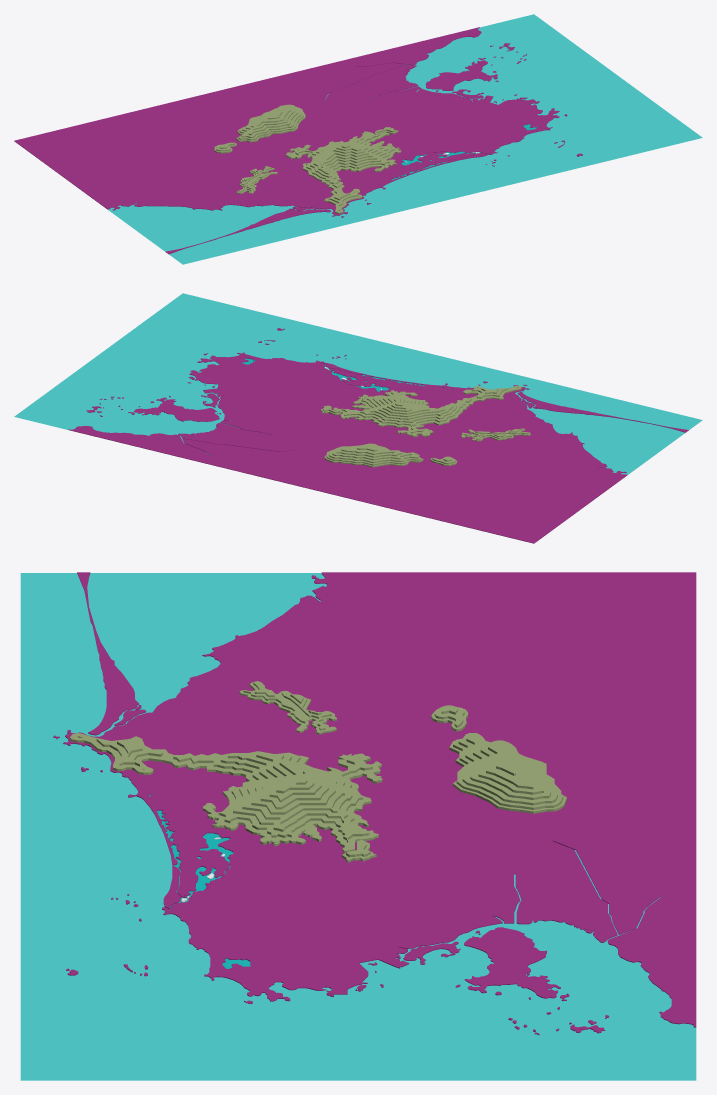
File: base_cidade.glb
3 renders of one model, top to bottom at view 1: azimuth 30°, elevation 25°; view 2: azimuth 150°, elevation 25°; view 3: azimuth 270°, elevation 25°, orthographic. The views are drawn at different scales.
Parts seen in each view (by area): view 1: base_low; view 2: base_low; view 3: base_low.
Part boxes in pixels (x1,y1,x2,y2): base_low: [14, 14, 702, 264]; base_low: [14, 293, 702, 543]; base_low: [20, 572, 696, 1080].
Size of the model in its own units: 14.26 by 0.28 by 8.02.
